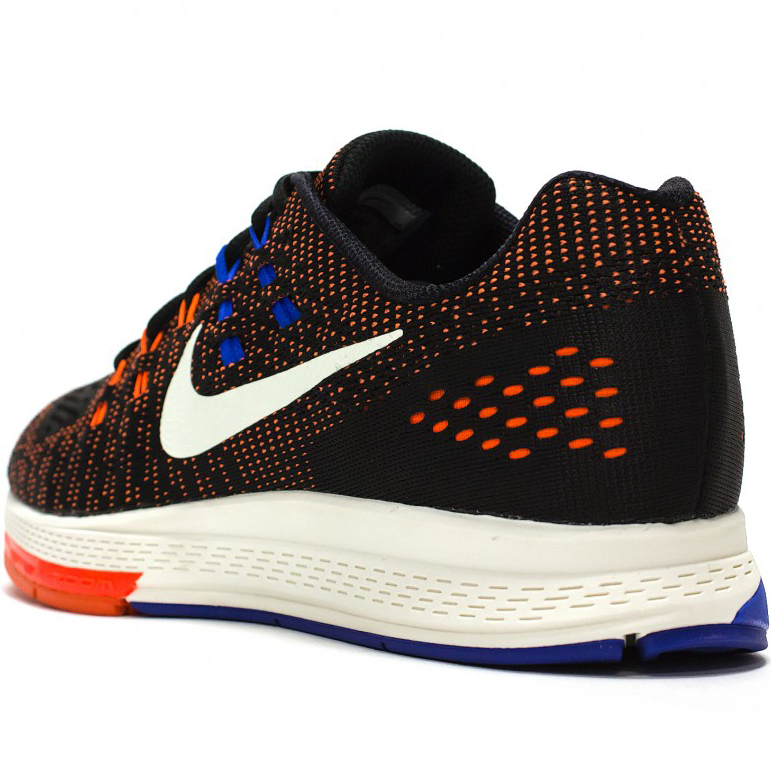Nike: (157, 318, 409, 464)
